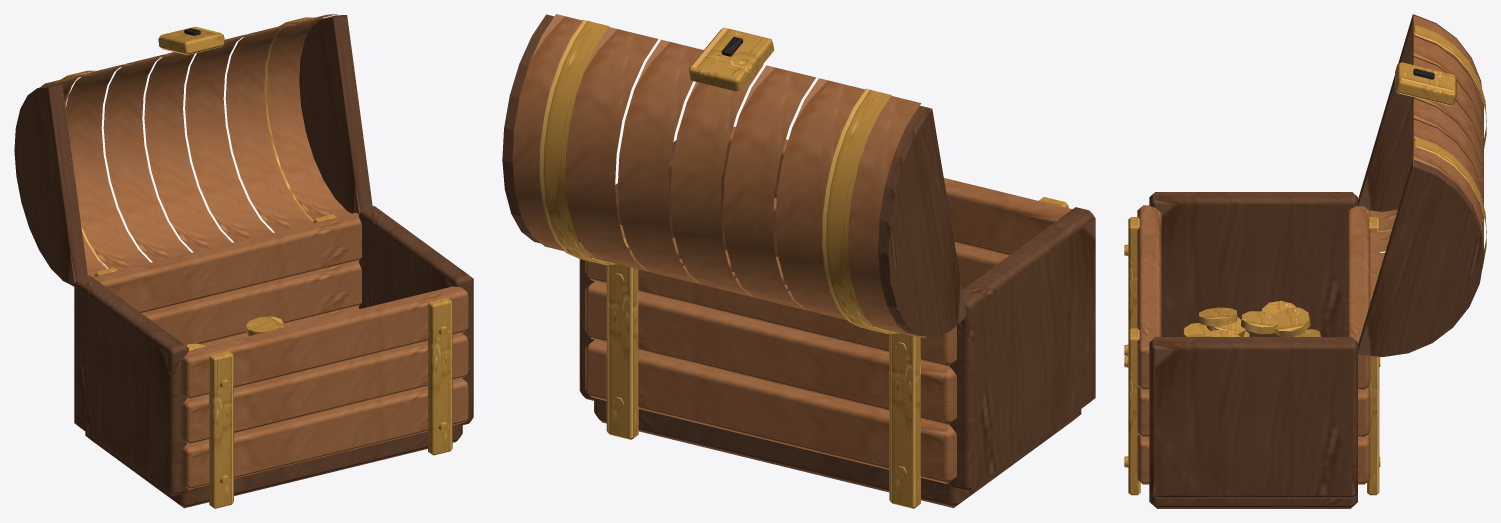
Rendered from SM_TreasureChest_Open.glb.
3 renders of one model, left to right at view 1: azimuth 30°, elevation 25°; view 2: azimuth 150°, elevation 25°; view 3: azimuth 270°, elevation 25°, orthographic. The views are drawn at different scales.
Parts seen in each view (by area): view 1: SM_TreasureChest_Open; view 2: SM_TreasureChest_Open; view 3: SM_TreasureChest_Open.
Part boxes in pixels (x1,y1,x2,y2): SM_TreasureChest_Open: [14, 14, 473, 508]; SM_TreasureChest_Open: [502, 14, 1095, 508]; SM_TreasureChest_Open: [1124, 14, 1486, 508].
Bounding box in the file's own units: 1.2 × 1.33 × 1.18.
Materials: 1 (1 with a texture image).
